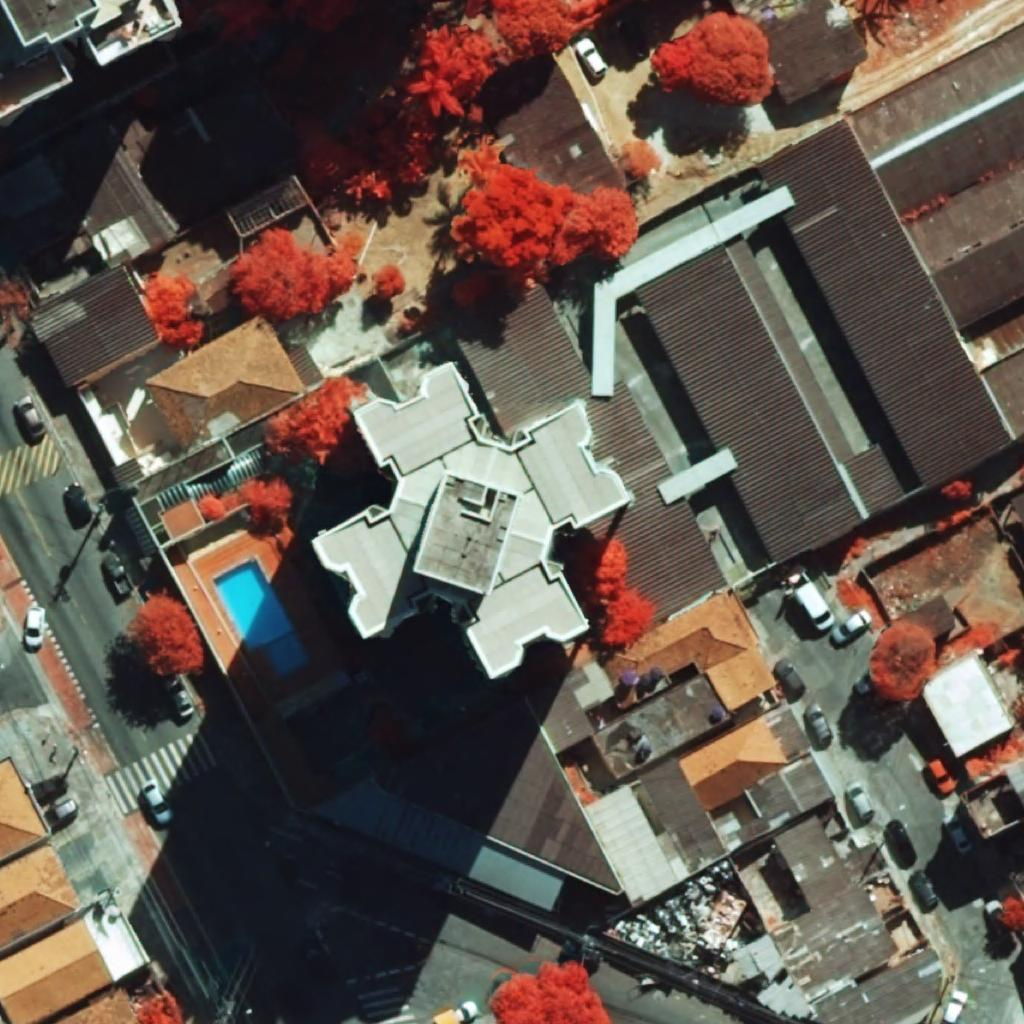pool: (213, 559, 309, 678)
